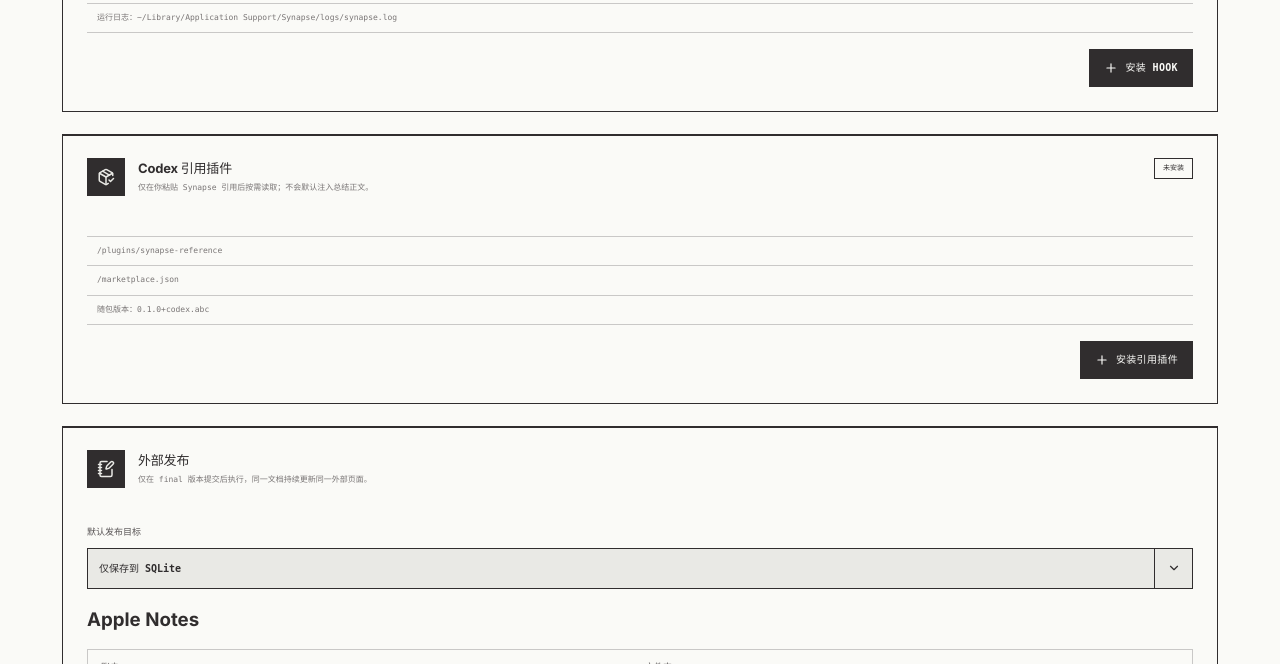
Test: SettingsPage › installs the reference plugin only after an explicit click
(page scrolled)
Click the button "安装引用插件" at [1136, 360], box [1080,341,1193,379]
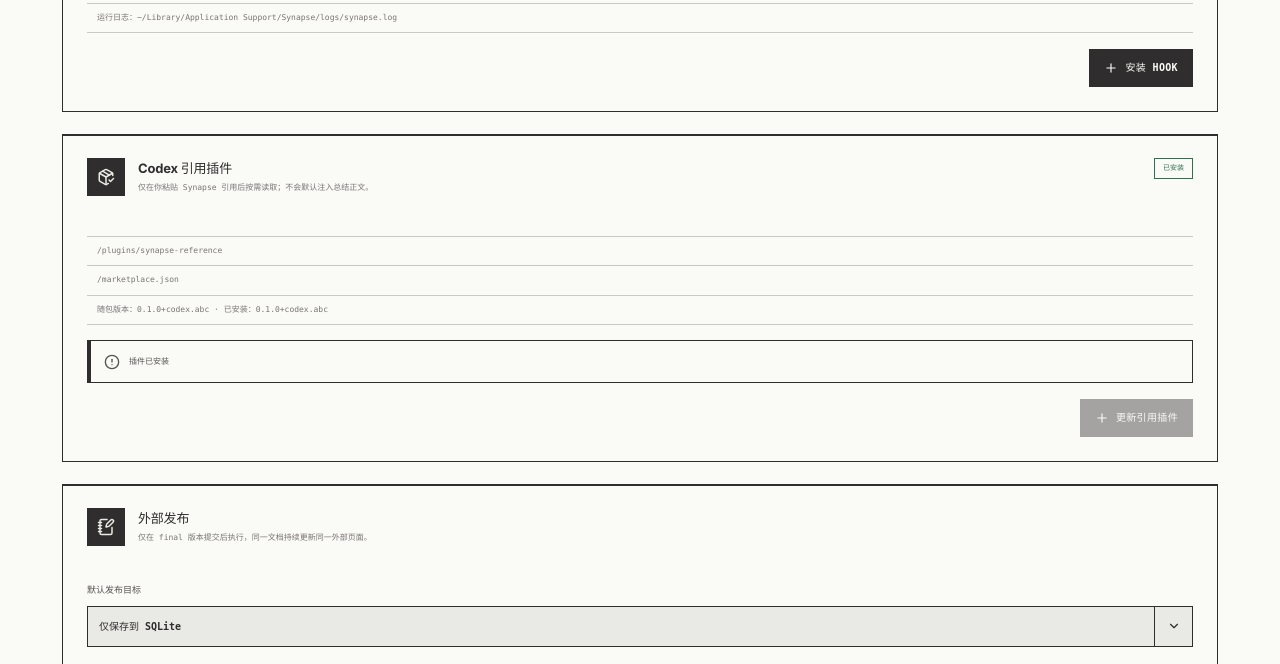
Now the text "已安装" is shown, box [1154,158,1193,179]
